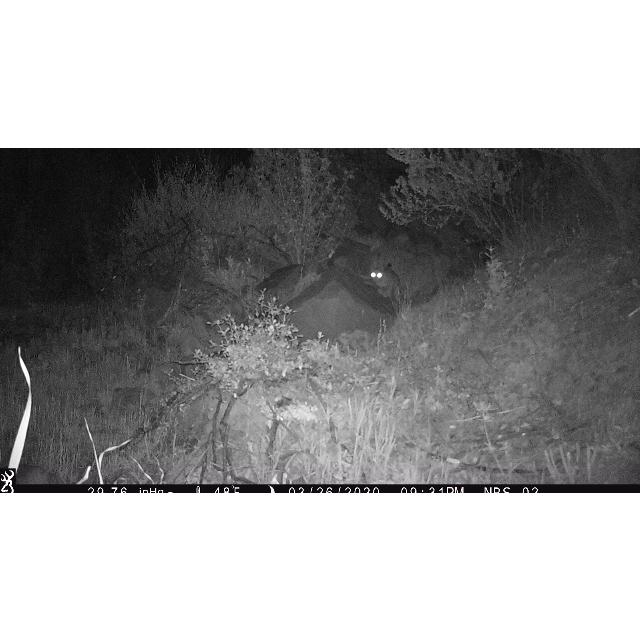animals: (370, 263, 400, 307)
